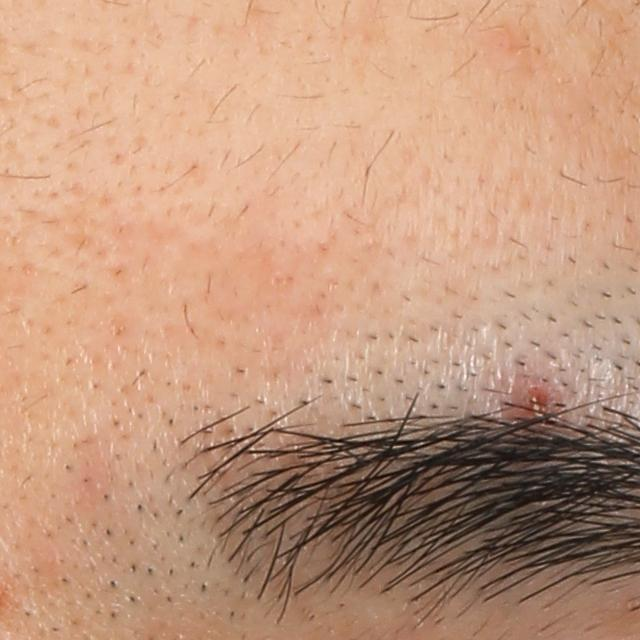papule: (516, 377, 561, 421)
